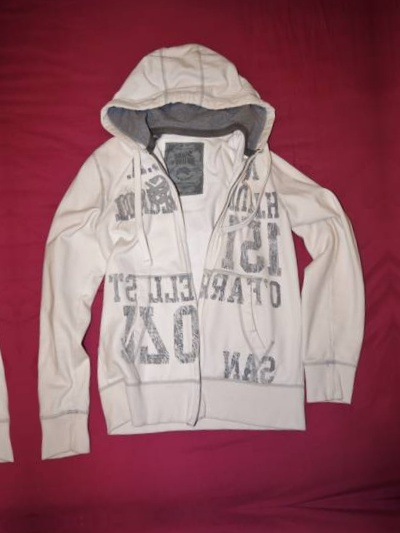Hoodie: (4, 35, 390, 491), (0, 62, 24, 518), (387, 7, 400, 463), (41, 533, 400, 533)
